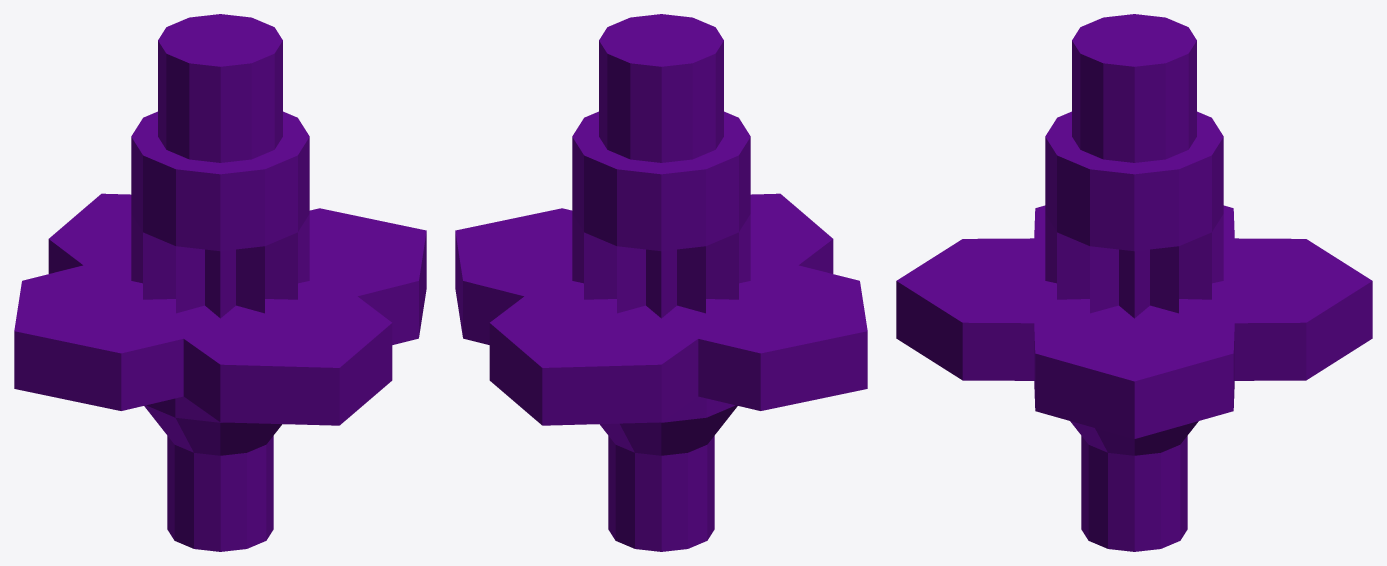
File: 2Bit.fbx
3 views of the same model, side by side, from view 1: azimuth 30°, elevation 25°; view 2: azimuth 150°, elevation 25°; view 3: azimuth 270°, elevation 25° (orthographic).
Parts seen in each view (by area): view 1: 2Bit; view 2: 2Bit; view 3: 2Bit.
Boxes of the visible parts, x1=… form: 2Bit: x1=14, y1=14, x2=426, y2=551; 2Bit: x1=455, y1=14, x2=867, y2=551; 2Bit: x1=896, y1=14, x2=1372, y2=551.
Size of the model in its own units: 224 by 254 by 224.
